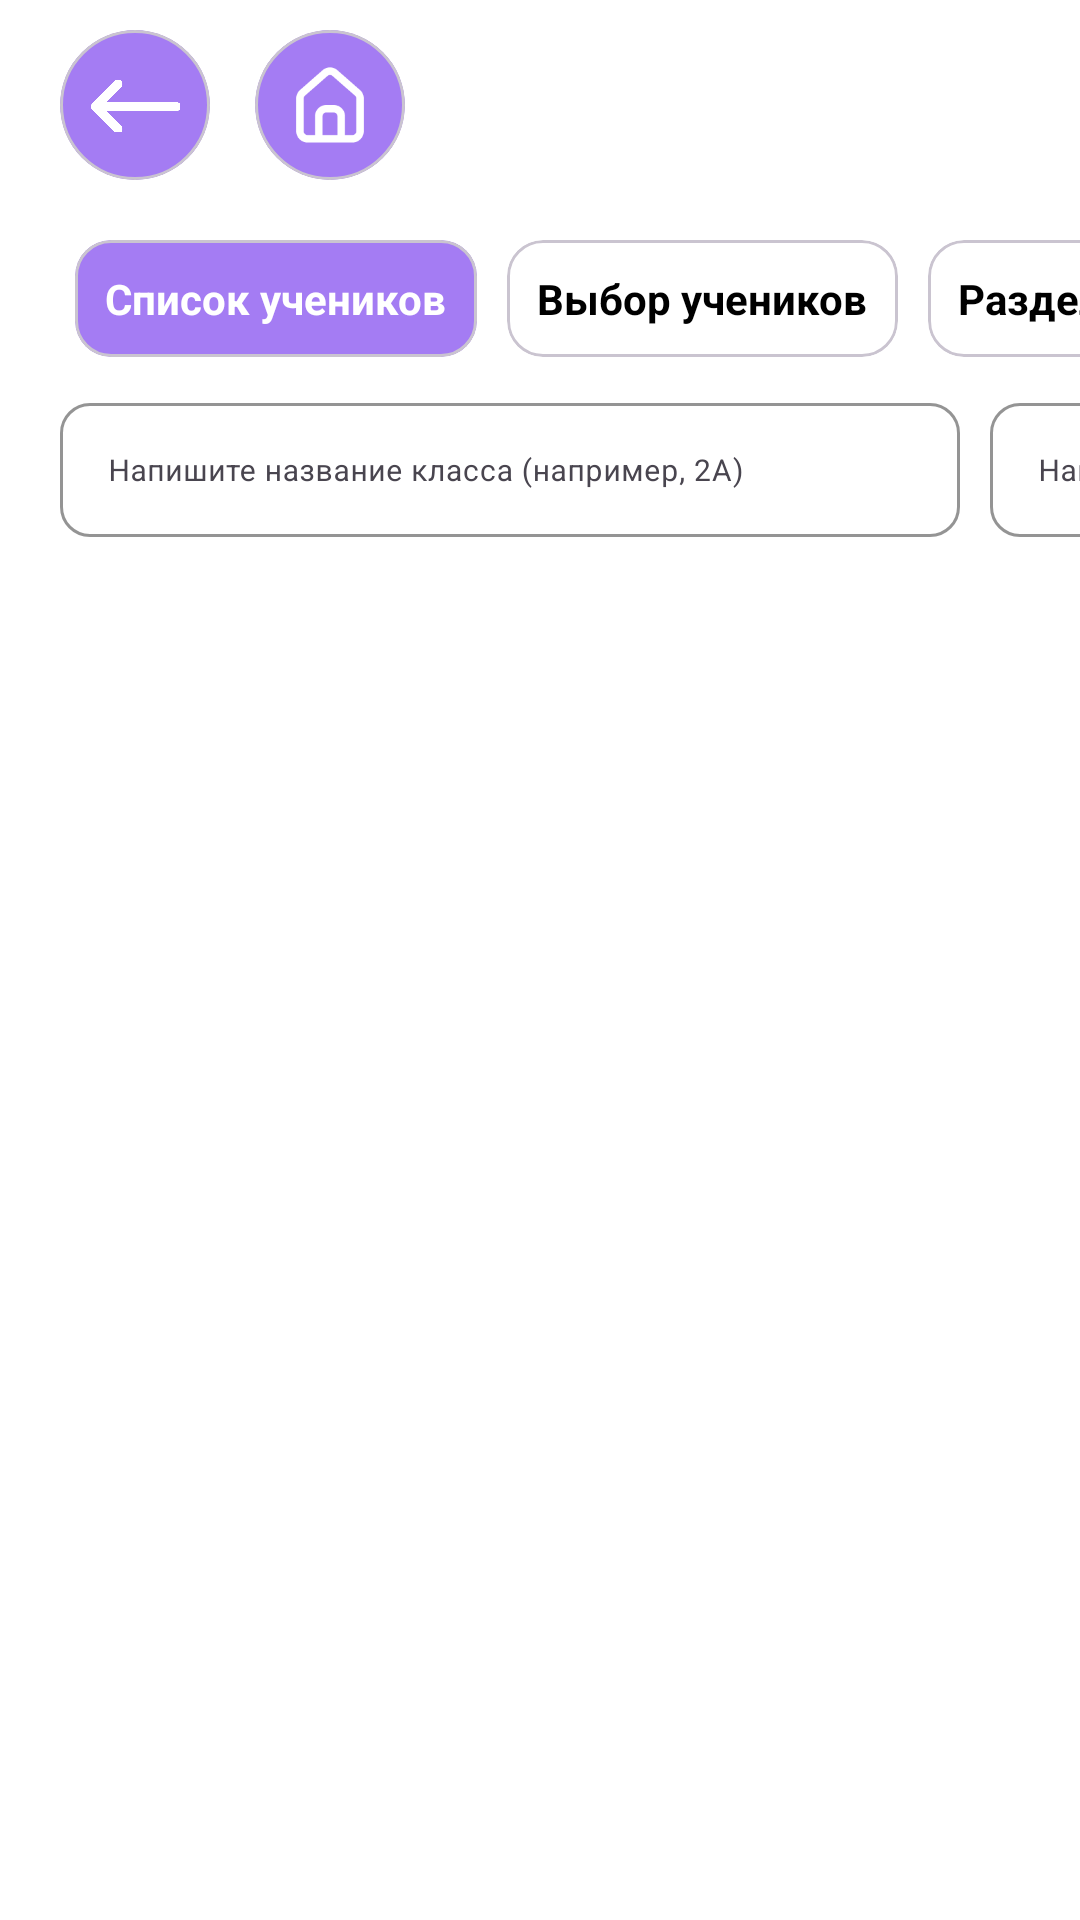

Named icons in this screenshot (1080*1920) and their centers, (x=x, y=y):
arrow back: (x=135, y=106)
home: (x=330, y=105)
